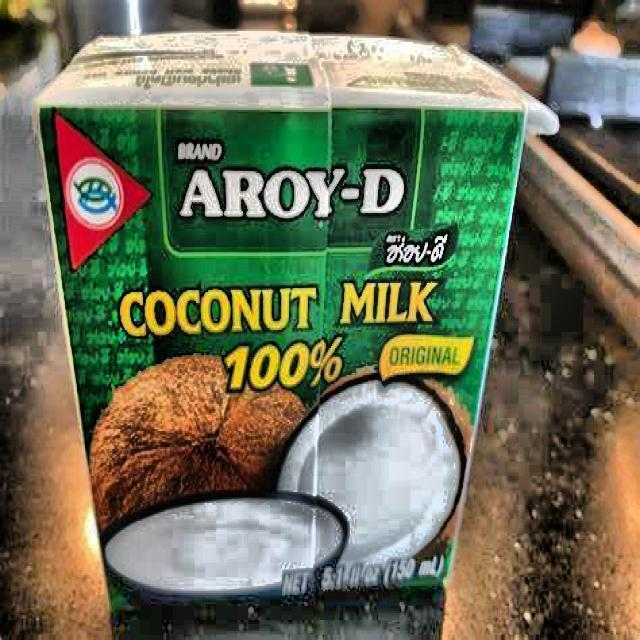cardboard: (30, 27, 538, 638)
